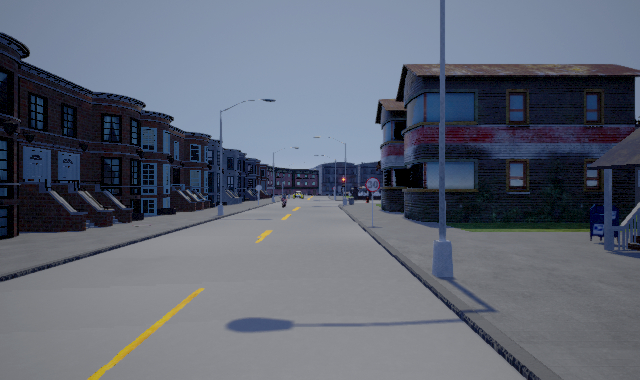motobike: (280, 193, 288, 207)
traffic_light: (342, 176, 346, 186)
traffic_sign: (365, 177, 380, 192)
